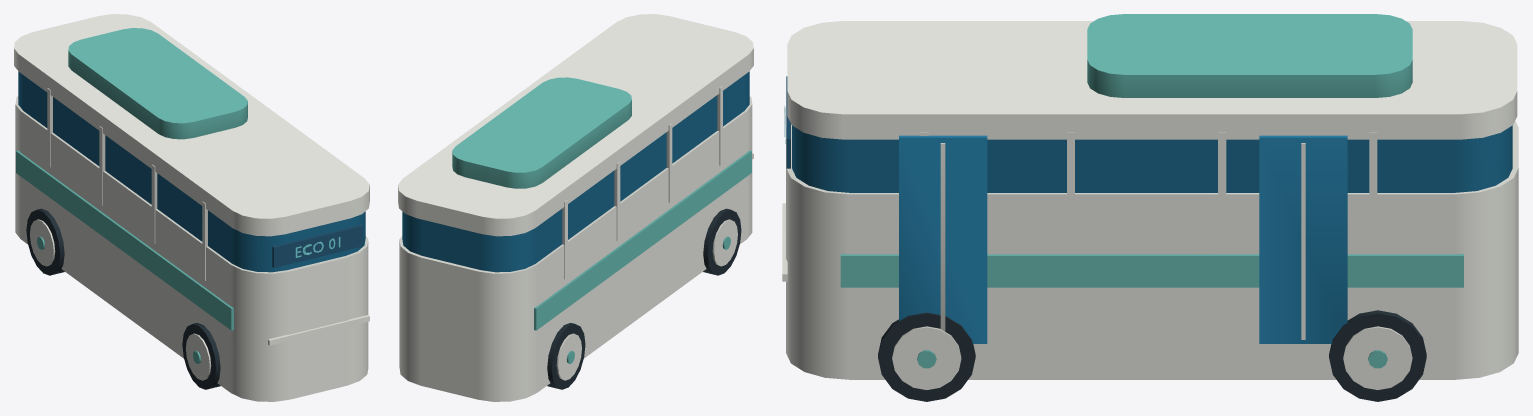
Rendered from city-bus-low.glb.
The picture shows the model from 3 angles, left to right: view 1: azimuth 30°, elevation 25°; view 2: azimuth 150°, elevation 25°; view 3: azimuth 270°, elevation 25°; orthographic projection. The views are drawn at different scales.
Visible parts, largest first — view 1: low floor electric bus, battery enclosure, bus panorama windows, electric tire, route display; view 2: low floor electric bus, battery enclosure, bus panorama windows, electric tire; view 3: low floor electric bus, bus panorama windows, battery enclosure, electric tire.
Boxes of the visible parts, x1=… form: low floor electric bus: x1=14, y1=14, x2=369, y2=401; battery enclosure: x1=16, y1=28, x2=247, y2=363; bus panorama windows: x1=18, y1=71, x2=365, y2=272; electric tire: x1=26, y1=208, x2=220, y2=389; route display: x1=272, y1=224, x2=362, y2=267; low floor electric bus: x1=398, y1=14, x2=753, y2=401; battery enclosure: x1=452, y1=77, x2=751, y2=363; bus panorama windows: x1=402, y1=71, x2=749, y2=272; electric tire: x1=547, y1=208, x2=741, y2=389; low floor electric bus: x1=782, y1=21, x2=1518, y2=389; bus panorama windows: x1=792, y1=125, x2=1512, y2=343; battery enclosure: x1=840, y1=14, x2=1463, y2=368; electric tire: x1=878, y1=310, x2=1426, y2=401.
Size of the model in its own units: 1.06 by 1.46 by 3.17.
